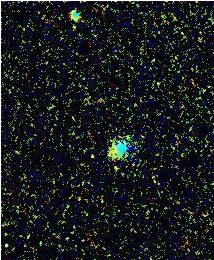star: (102, 154, 132, 184)
